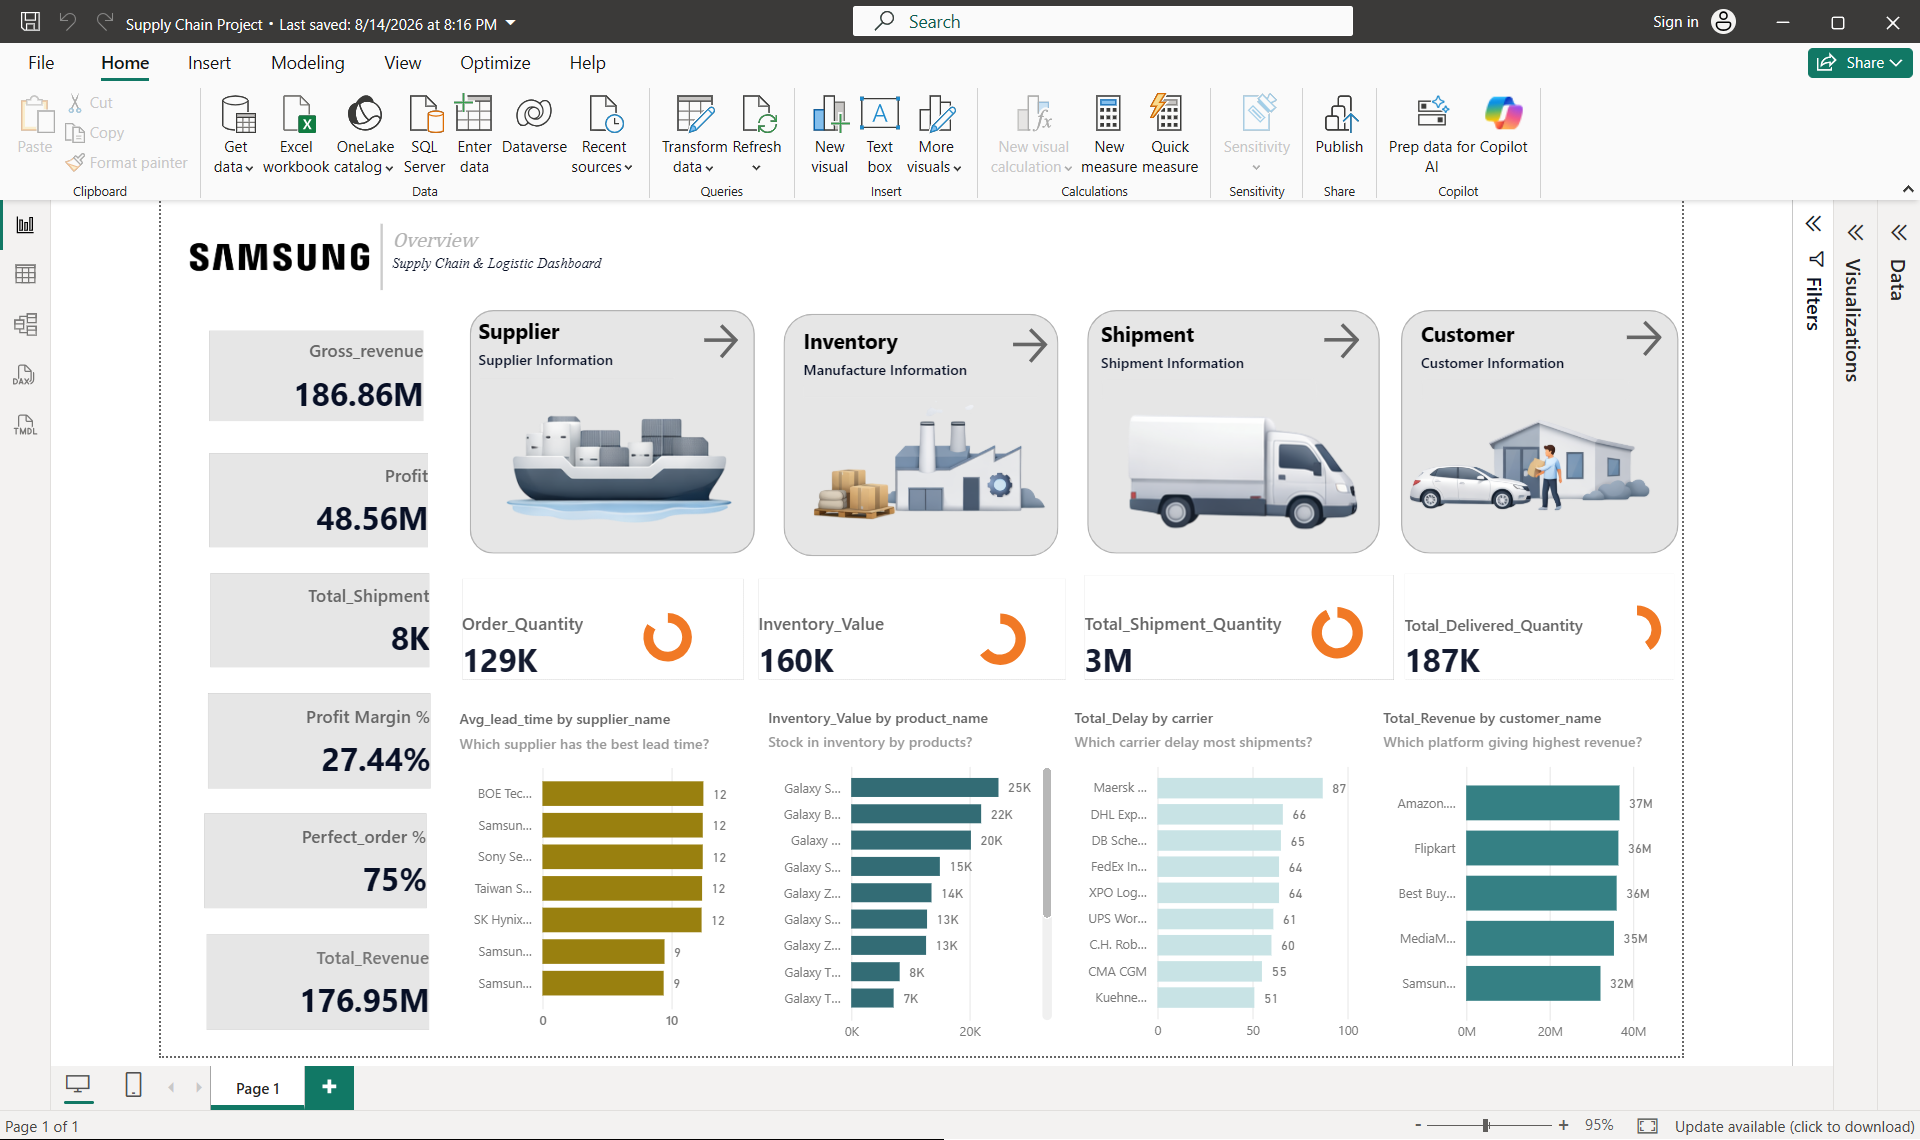

This screenshot's page, from the dashboard's own definition file:
{"tool":"powerbi","page":{"name":"Page 1","canvas":[1280,720],"ordinal":0},"visuals":[{"type":"shape","box":[523.6,95.7,231.3,204],"z":0},{"type":"shape","box":[779.1,92.5,246,205],"z":1000},{"type":"shape","box":[1043,92.5,233.4,205],"z":2000},{"type":"shape","box":[259.7,92.5,239.7,205],"z":3000},{"type":"image","box":[522.5,133.5,233.7,164],"z":4000},{"type":"image","box":[265,133.5,231.4,164],"z":5000},{"type":"image","box":[790.7,144,232.6,152.3],"z":6000},{"type":"image","box":[1036.7,144,239.5,152.3],"z":7000},{"type":"actionButton","box":[710.8,103,40,38.9],"z":8000},{"type":"actionButton","box":[972.6,98.8,45.3,39.5],"z":9000},{"type":"actionButton","box":[451.1,98.8,38.4,39.5],"z":10000},{"type":"actionButton","box":[1227,96.7,45.3,39.5],"z":11000},{"type":"shape","title":"Supplier","box":[267.1,98.8,165.1,51.5],"z":12000},{"type":"shape","title":"Inventory","box":[540.4,107.2,197.7,58.9],"z":13000},{"type":"shape","title":"Customer","box":[1059.8,100.9,175.6,67.4],"z":14000},{"type":"shape","title":"Shipment","box":[790.7,100.9,181.4,67.4],"z":15000},{"type":"shape","title":"Overview","box":[194.5,24.2,300.7,37.9],"z":16000},{"type":"shape","box":[152.3,19.8,66.3,55.8],"z":17000},{"type":"image","box":[7.4,11.6,177.9,72.1],"z":18000},{"type":"cardVisual","fields":{"Data":["Sum(fact_sales.gross_revenue)"]},"box":[36,104.7,190.7,86],"z":19000},{"type":"cardVisual","fields":{"Data":["MeasureTable.Profit"]},"box":[35.4,208.1,194.2,89.5],"z":20000},{"type":"cardVisual","fields":{"Data":["MeasureTable.Profit Margin %"]},"box":[34.5,410,197,90],"z":21000},{"type":"cardVisual","fields":{"Data":["MeasureTable.Perfect_order %"]},"box":[31.4,511.4,197,90],"z":22000},{"type":"cardVisual","fields":{"Data":["MeasureTable.Total_Revenue"]},"box":[33.4,612.8,197,90.7],"z":23000},{"type":"cardVisual","fields":{"Data":["MeasureTable.Total_Shipment"]},"box":[36.5,309.1,194.2,89.5],"z":24000},{"type":"cardVisual","fields":{"Data":["MeasureTable.Inventory_Value"]},"box":[496.3,312.3,271.3,97.8],"z":25000},{"type":"cardVisual","fields":{"Data":["MeasureTable.Total_Deliveered_Quantity"]},"box":[1039.8,308.1,239.7,102],"z":26000},{"type":"cardVisual","fields":{"Data":["MeasureTable.Total_Shipment_Quantity"]},"box":[770.7,309.1,272.3,100.9],"z":27000},{"type":"cardVisual","fields":{"Data":["MeasureTable.Order_QTY"]},"box":[247.1,312.3,249.2,97.8],"z":28000},{"type":"clusteredBarChart","fields":{"Y":["MeasureTable.Avg_lead_time"],"Category":["dim_supplier.supplier_name"]},"box":[246,427.9,248.8,289.5],"z":29000},{"type":"clusteredBarChart","fields":{"Y":["MeasureTable.Inventory_Value"],"Category":["dim_product.product_name"]},"box":[505.7,426.9,248.8,289.5],"z":30000},{"type":"clusteredBarChart","fields":{"Y":["MeasureTable.Total_Delay"],"Category":["fact_shipment.carrier"]},"box":[763.3,426.9,248.8,288.4],"z":31000},{"type":"clusteredBarChart","fields":{"Y":["MeasureTable.Total_Revenue"],"Category":["dim_customer.customer_name"]},"box":[1023,426.9,248.8,289.5],"z":32000},{"type":"donutChart","fields":{"Y":["MeasureTable.Order_Quantity","MeasureTable.Defect_Rate"]},"box":[382.7,337.5,87.3,61],"z":33000},{"type":"donutChart","fields":{"Y":["MeasureTable.Inventory_Value","MeasureTable.Safety_Stock"]},"box":[661.3,337.5,89.4,64.1],"z":34000},{"type":"donutChart","fields":{"Y":["MeasureTable.Order_Quantity","MeasureTable.Total_Deliveered_Quantity"]},"box":[1211.2,329.1,61,65.2],"z":35000},{"type":"donutChart","fields":{"Y":["MeasureTable.Total_Shipment","MeasureTable.Total_Delay"]},"box":[954.7,332.2,69.8,64],"z":36000}]}

Visuals, with their boxes on the page's 1280x720 design canvas (x1, y1, x2, y2). These are canvas units, not pixel positions in the 1920x1140 screenshot, which may show the page scaled, cropped or inside an application window:
shape: 524 96 755 300
shape: 779 92 1025 298
shape: 1043 92 1276 298
shape: 260 92 499 298
image: 522 134 756 298
image: 265 134 496 298
image: 791 144 1023 296
image: 1037 144 1276 296
actionButton: 711 103 751 142
actionButton: 973 99 1018 138
actionButton: 451 99 490 138
actionButton: 1227 97 1272 136
"Supplier" shape: 267 99 432 150
"Inventory" shape: 540 107 738 166
"Customer" shape: 1060 101 1235 168
"Shipment" shape: 791 101 972 168
"Overview" shape: 194 24 495 62
shape: 152 20 219 76
image: 7 12 185 84
cardVisual - Sum(fact_sales.gross_revenue): 36 105 227 191
cardVisual - MeasureTable.Profit: 35 208 230 298
cardVisual - MeasureTable.Profit Margin %: 34 410 232 500
cardVisual - MeasureTable.Perfect_order %: 31 511 228 601
cardVisual - MeasureTable.Total_Revenue: 33 613 230 704
cardVisual - MeasureTable.Total_Shipment: 36 309 231 399
cardVisual - MeasureTable.Inventory_Value: 496 312 768 410
cardVisual - MeasureTable.Total_Deliveered_Quantity: 1040 308 1280 410
cardVisual - MeasureTable.Total_Shipment_Quantity: 771 309 1043 410
cardVisual - MeasureTable.Order_QTY: 247 312 496 410
clusteredBarChart - MeasureTable.Avg_lead_time x dim_supplier.supplier_name: 246 428 495 717
clusteredBarChart - MeasureTable.Inventory_Value x dim_product.product_name: 506 427 754 716
clusteredBarChart - MeasureTable.Total_Delay x fact_shipment.carrier: 763 427 1012 715
clusteredBarChart - MeasureTable.Total_Revenue x dim_customer.customer_name: 1023 427 1272 716
donutChart - MeasureTable.Order_Quantity x MeasureTable.Defect_Rate: 383 338 470 398
donutChart - MeasureTable.Inventory_Value x MeasureTable.Safety_Stock: 661 338 751 402
donutChart - MeasureTable.Order_Quantity x MeasureTable.Total_Deliveered_Quantity: 1211 329 1272 394
donutChart - MeasureTable.Total_Shipment x MeasureTable.Total_Delay: 955 332 1024 396
